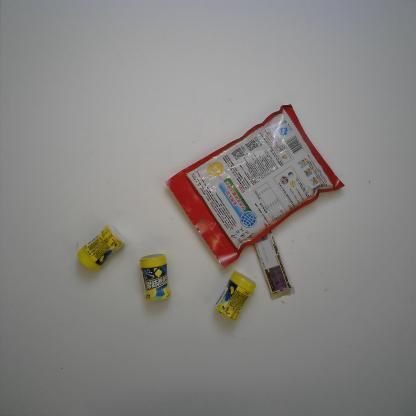Chocolate: (252, 214, 295, 301)
Gum: (77, 224, 126, 272), (213, 270, 256, 322), (139, 253, 171, 303)
Instant Drink: (164, 104, 345, 269)
